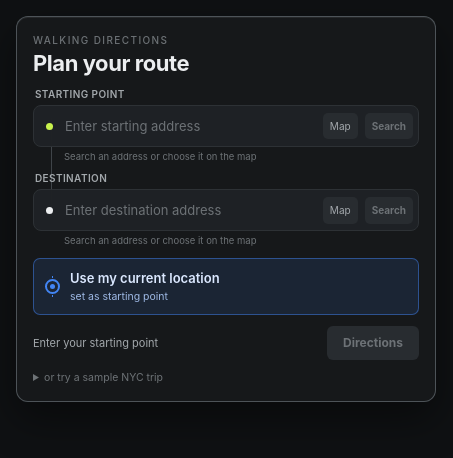
Test: route planner › falls back to choosing the start on the map when permission is denied
Click the text "Use my current location" at (145, 278), box [70, 270, 220, 286]
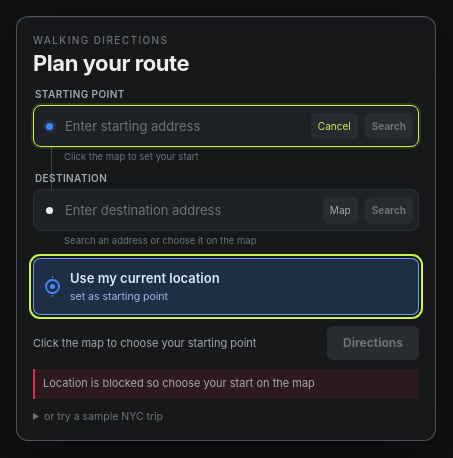
expect the text "Location is blocked so choose your start on the map" is shown: met, box [33, 369, 419, 399]
